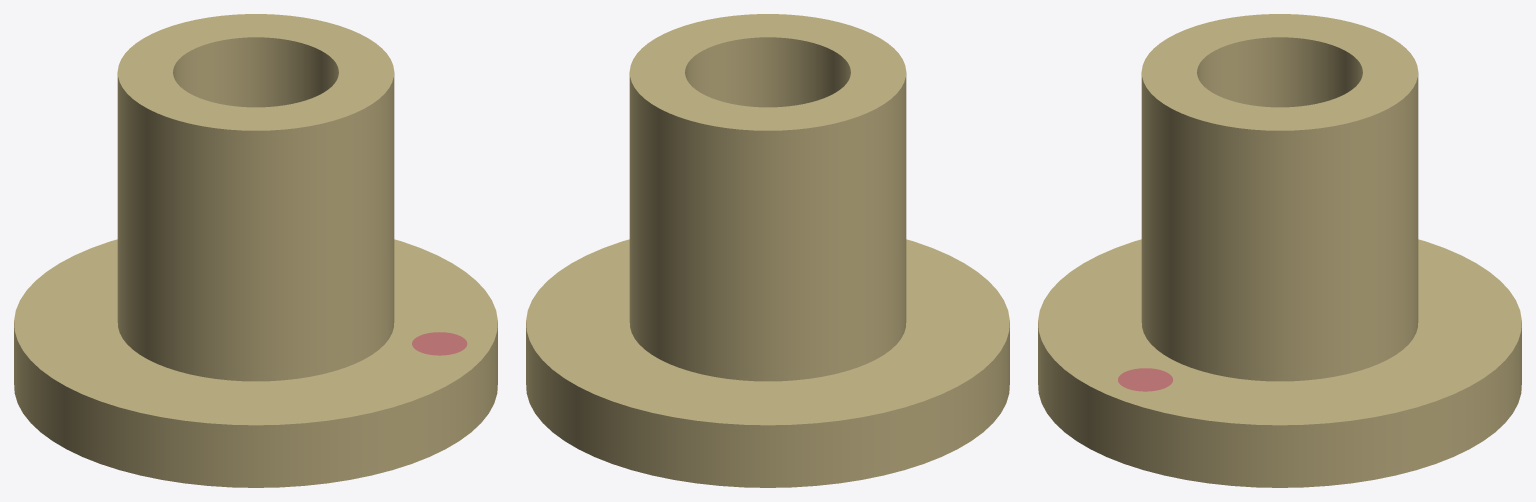
The model's file is step_06.glb.
The picture shows the model from 3 angles, left to right: view 1: azimuth 30°, elevation 25°; view 2: azimuth 150°, elevation 25°; view 3: azimuth 270°, elevation 25°; orthographic projection.
Parts seen in each view (by area): view 1: part__flanged bush, removed__flanged bush; view 2: part__flanged bush; view 3: part__flanged bush, removed__flanged bush.
Boxes of the visible parts, x1,y1,x2,y2 form: part__flanged bush: (14, 14, 497, 487); removed__flanged bush: (412, 332, 467, 355); part__flanged bush: (526, 14, 1009, 487); part__flanged bush: (1038, 14, 1521, 487); removed__flanged bush: (1118, 368, 1172, 391).
Size of the model in its own units: 69.96 by 50 by 69.98.
